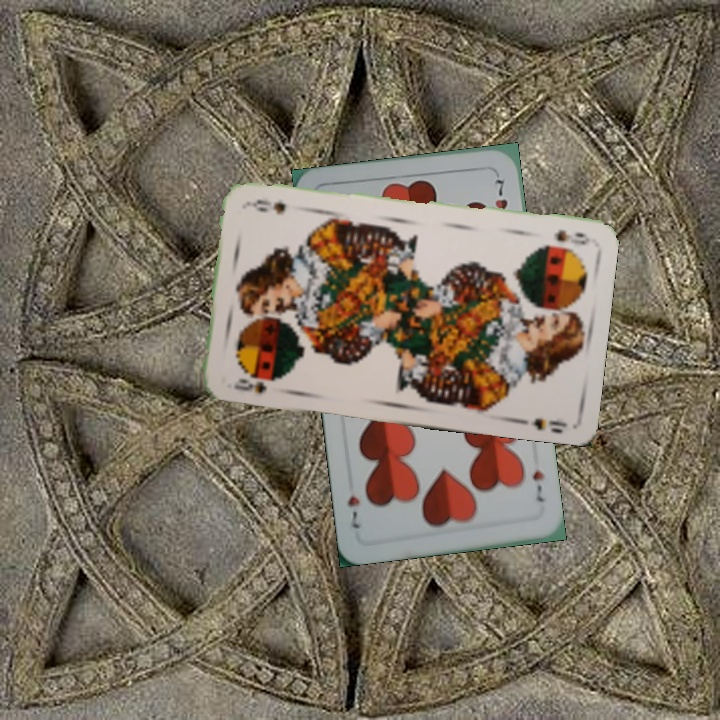H7: (528, 466, 546, 505)
SO: (230, 373, 277, 396), (550, 225, 593, 248)
